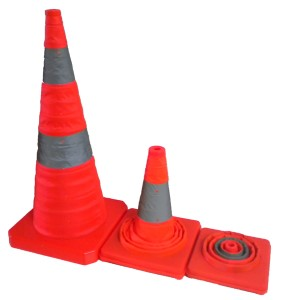traffic cone: (8, 8, 127, 265), (99, 146, 201, 280)
